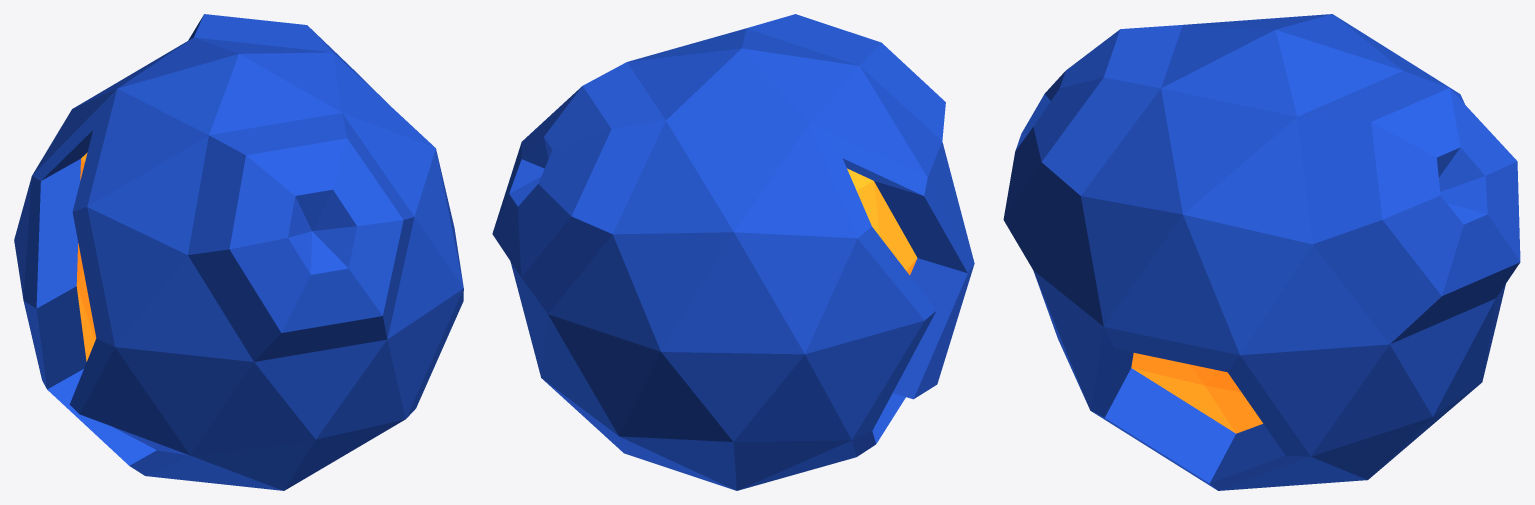
The model's file is planets4.glb.
3 views of the same model, side by side, from view 1: azimuth 30°, elevation 25°; view 2: azimuth 150°, elevation 25°; view 3: azimuth 270°, elevation 25° (orthographic). The views are drawn at different scales.
Visible parts, largest first — view 1: Icosphere.005; view 2: Icosphere.005; view 3: Icosphere.005.
Part boxes in pixels (<box>): Icosphere.005: <box>14,14,463,490</box>; Icosphere.005: <box>492,14,974,490</box>; Icosphere.005: <box>1003,14,1520,490</box>.
Bounding box in the file's own units: 1.98 × 2 × 2.1.
